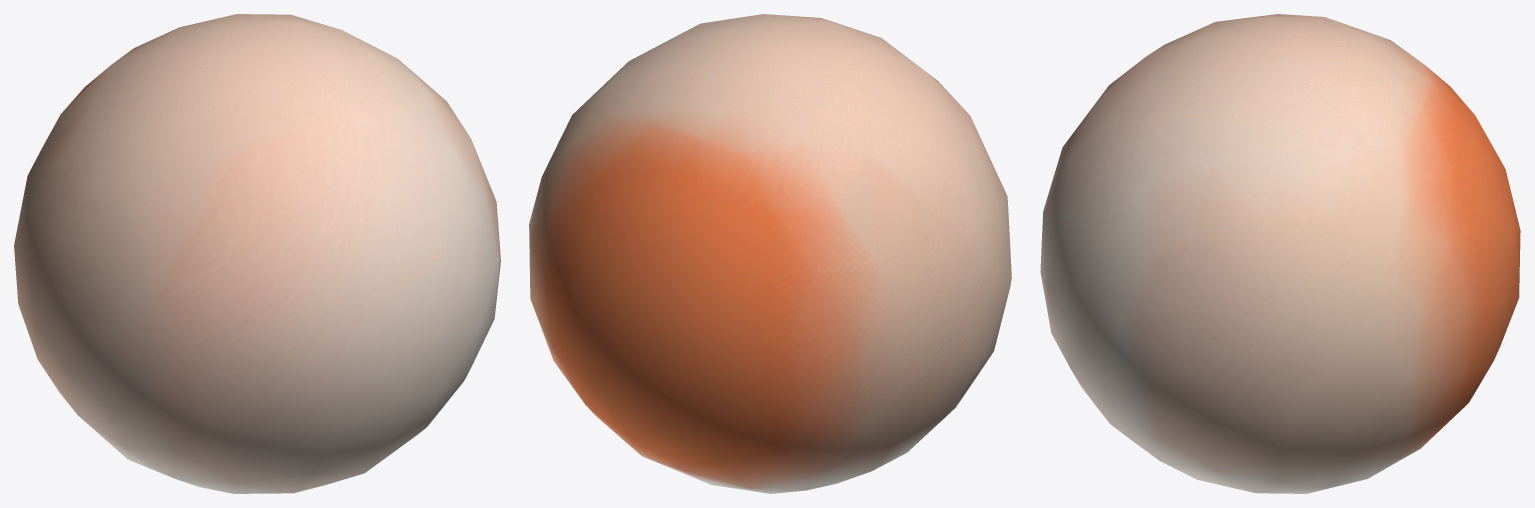
The model's file is ball.glb.
The picture shows the model from 3 angles, left to right: view 1: azimuth 30°, elevation 25°; view 2: azimuth 150°, elevation 25°; view 3: azimuth 270°, elevation 25°; orthographic projection.
Size of the model in its own units: 0.2001 by 0.2 by 0.2001.
1 material, 1 textured.
